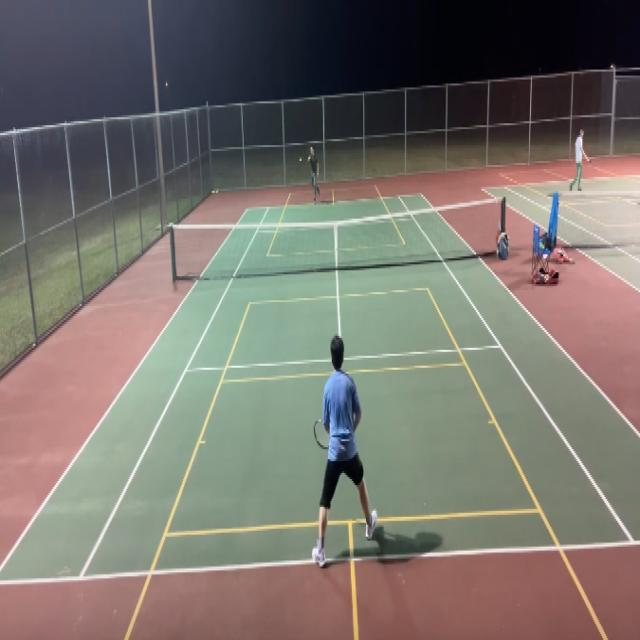ball: (300, 156, 302, 162), (216, 188, 218, 194)
